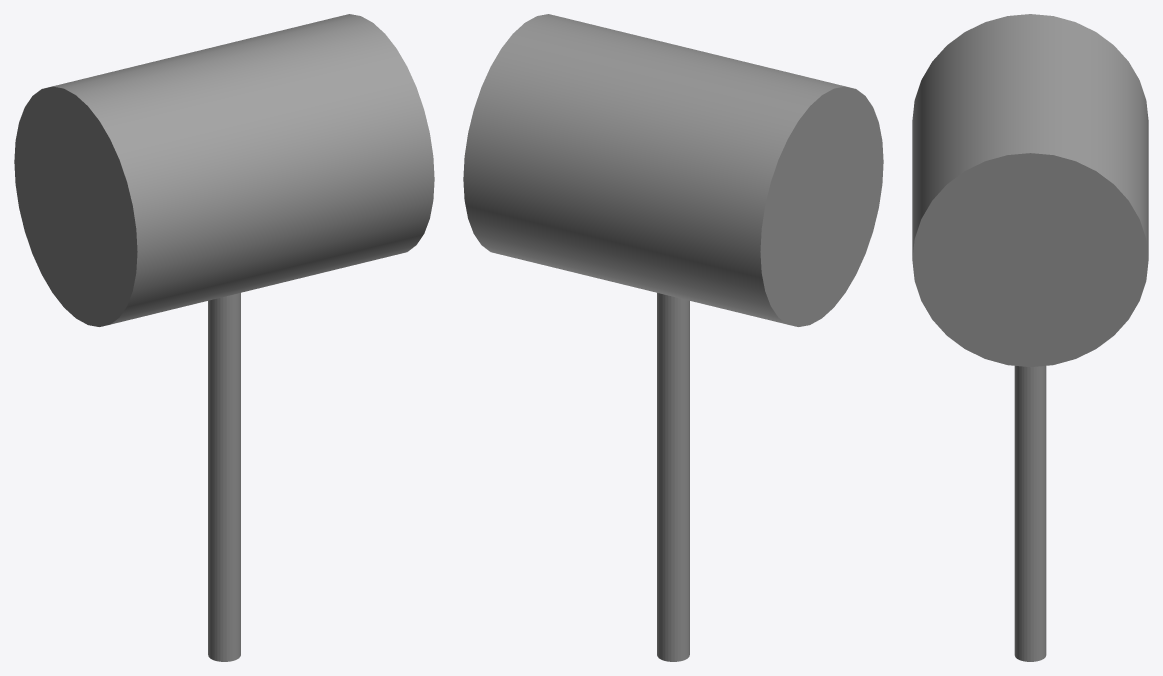
File: hummer.obj
3 renders of one model, left to right at view 1: azimuth 30°, elevation 25°; view 2: azimuth 150°, elevation 25°; view 3: azimuth 270°, elevation 25°, orthographic. The views are drawn at different scales.
Parts seen in each view (by area): view 1: hummer; view 2: hummer; view 3: hummer.
Boxes of the visible parts, x1,y1,x2,y2 form: hummer: (14, 14, 434, 661); hummer: (463, 14, 883, 661); hummer: (912, 14, 1148, 661).
Bounding box in the file's own units: 1.05 × 2.01 × 0.7513.
